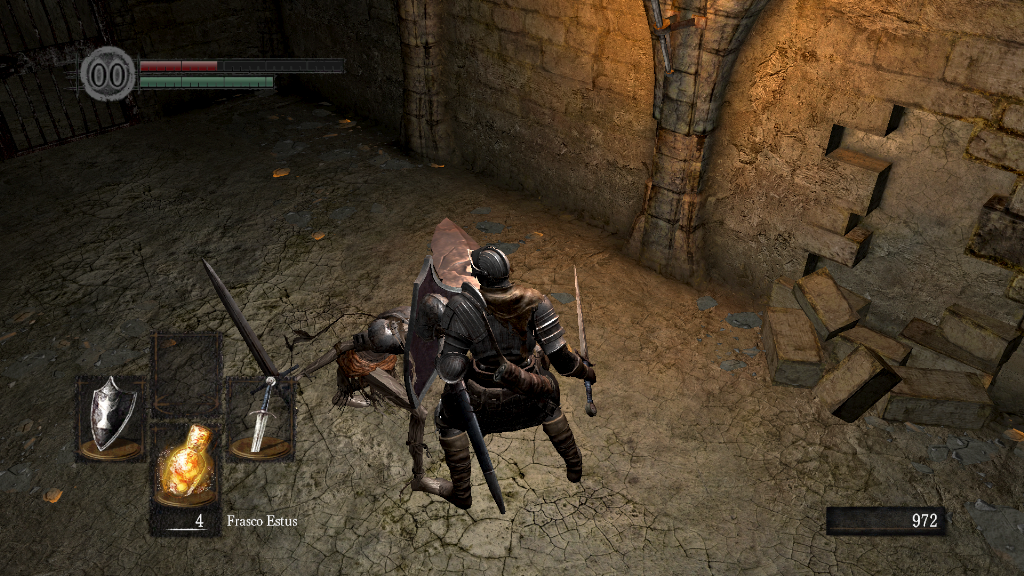health: (138, 58, 343, 71)
humanity: (80, 45, 136, 102)
player: (402, 244, 600, 508)
souls: (825, 506, 945, 536)
stamina: (138, 74, 274, 88)
